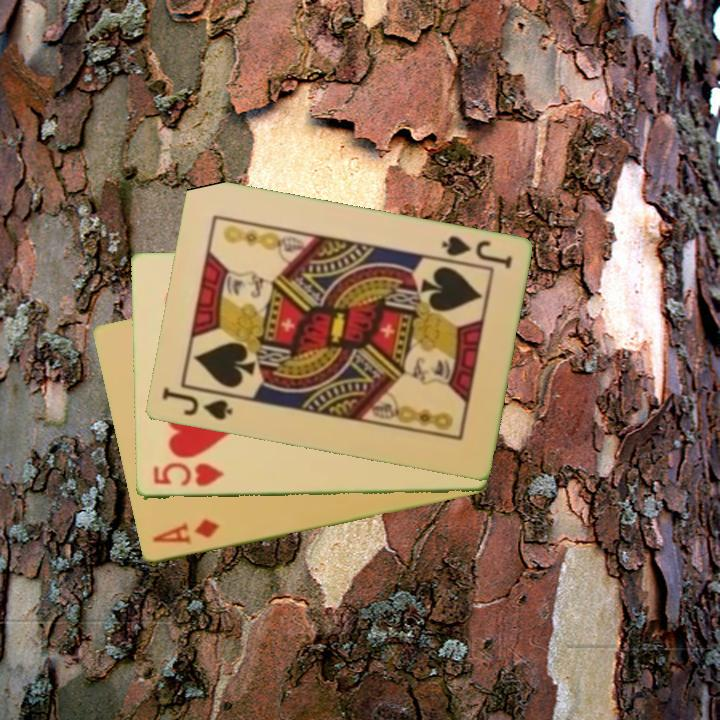5h: (149, 461, 226, 490)
Ad: (148, 516, 222, 549)
Js: (158, 384, 235, 424), (438, 232, 515, 272)
